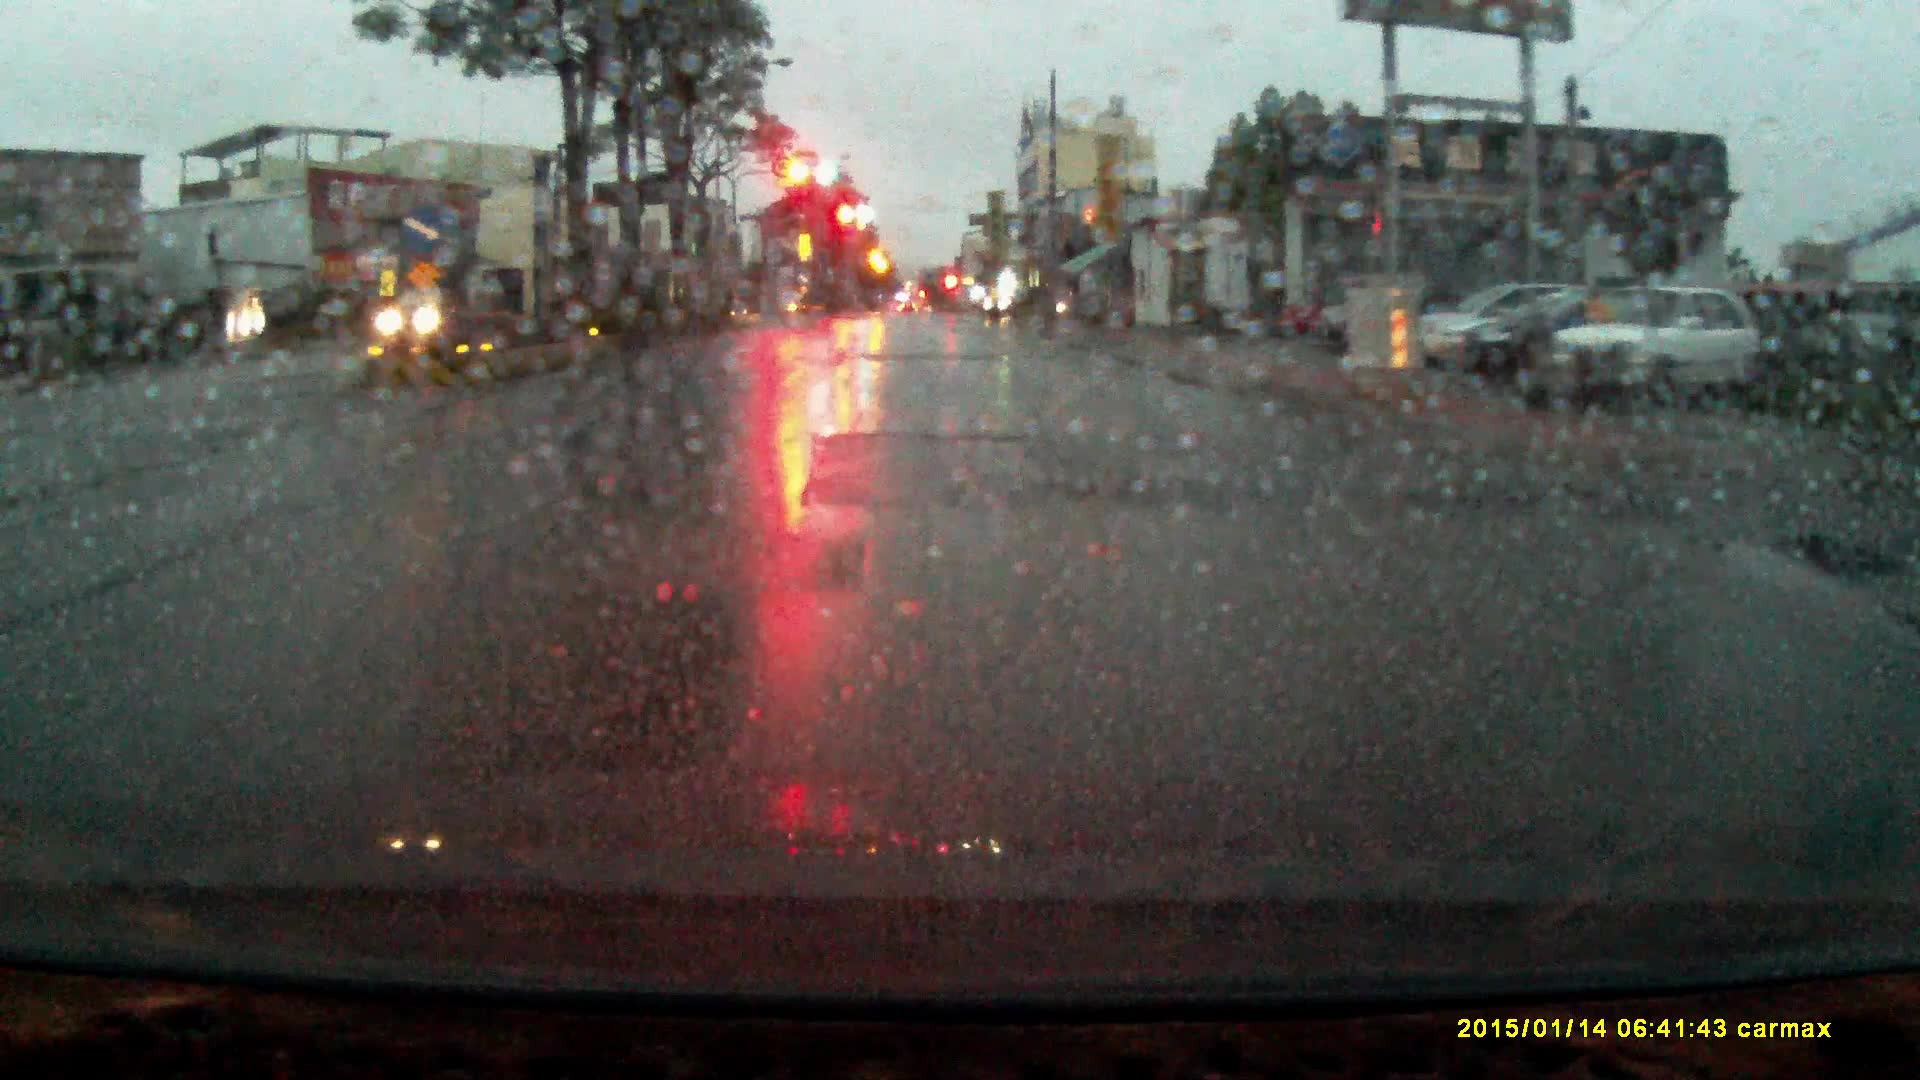vehicle: (1544, 284, 1756, 411), (1445, 286, 1636, 385), (1418, 287, 1549, 367), (375, 289, 471, 351), (980, 286, 1059, 322)
